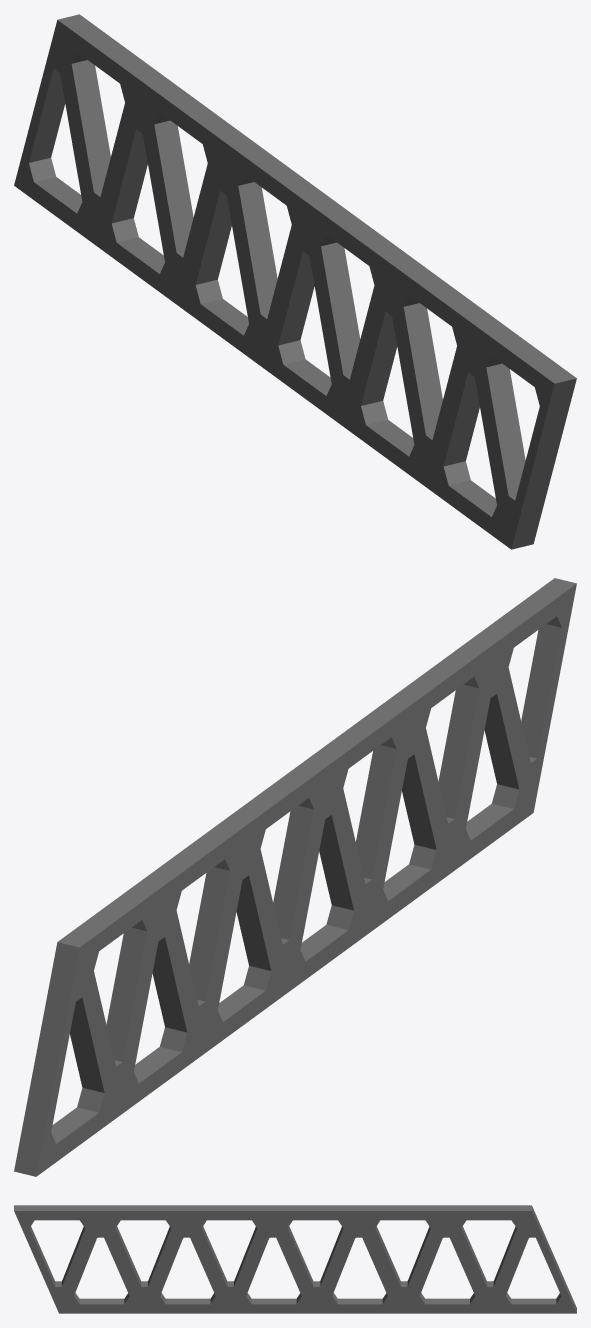
File: Metal Support.glb
3 renders of one model, top to bottom at view 1: azimuth 30°, elevation 25°; view 2: azimuth 150°, elevation 25°; view 3: azimuth 270°, elevation 25°, orthographic. The views are drawn at different scales.
Visible parts, largest first — view 1: MetalSupport; view 2: MetalSupport; view 3: MetalSupport.
Boxes of the visible parts, x1=… form: MetalSupport: x1=14, y1=14, x2=576, y2=549; MetalSupport: x1=14, y1=578, x2=576, y2=1176; MetalSupport: x1=14, y1=1205, x2=576, y2=1313.
Bounding box in the file's own units: 0.1415 × 1.2 × 5.95.
Materials: 1 (1 with a texture image).
